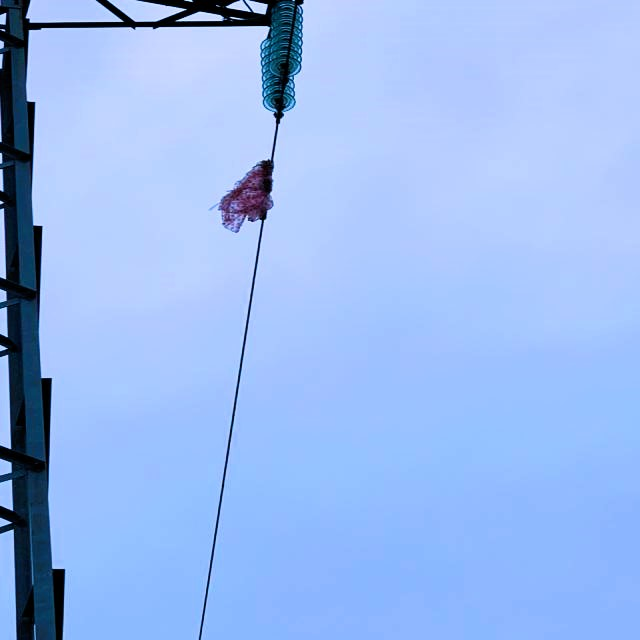wire foreign body: (211, 148, 286, 240)
